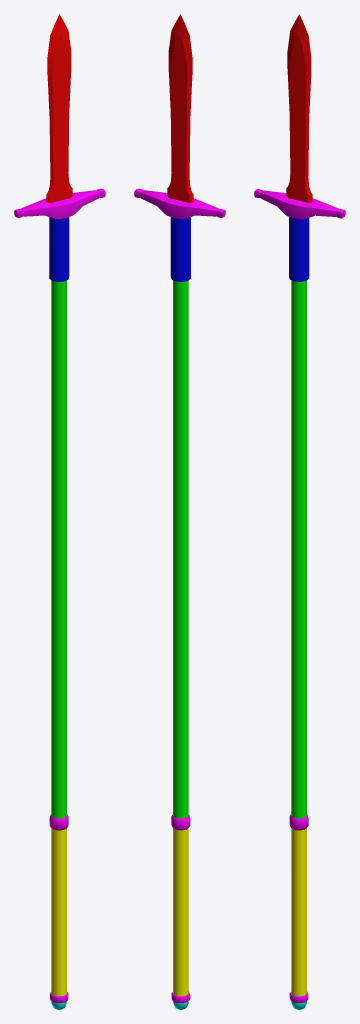
Rendered from MSH_Lanza1_MID_Isaac.FBX.
3 renders of one model, left to right at view 1: azimuth 30°, elevation 25°; view 2: azimuth 150°, elevation 25°; view 3: azimuth 330°, elevation 25°, orthographic.
Visible parts, largest first — view 1: Lanza_1; view 2: Lanza_1; view 3: Lanza_1.
Part boxes in pixels (x1,y1,x2,y2): Lanza_1: (14,14,105,1009); Lanza_1: (134,14,225,1009); Lanza_1: (254,14,345,1009).
Size of the model in its own units: 17.48 by 189 by 4.3.
